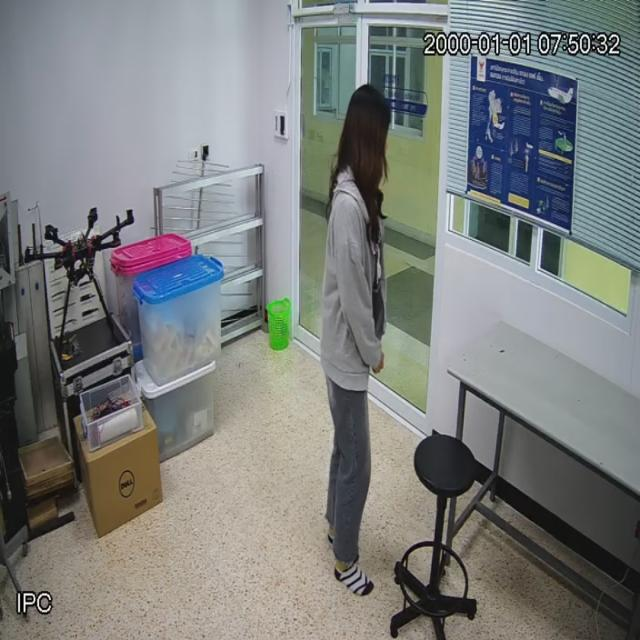normal: (319, 71, 396, 605)
